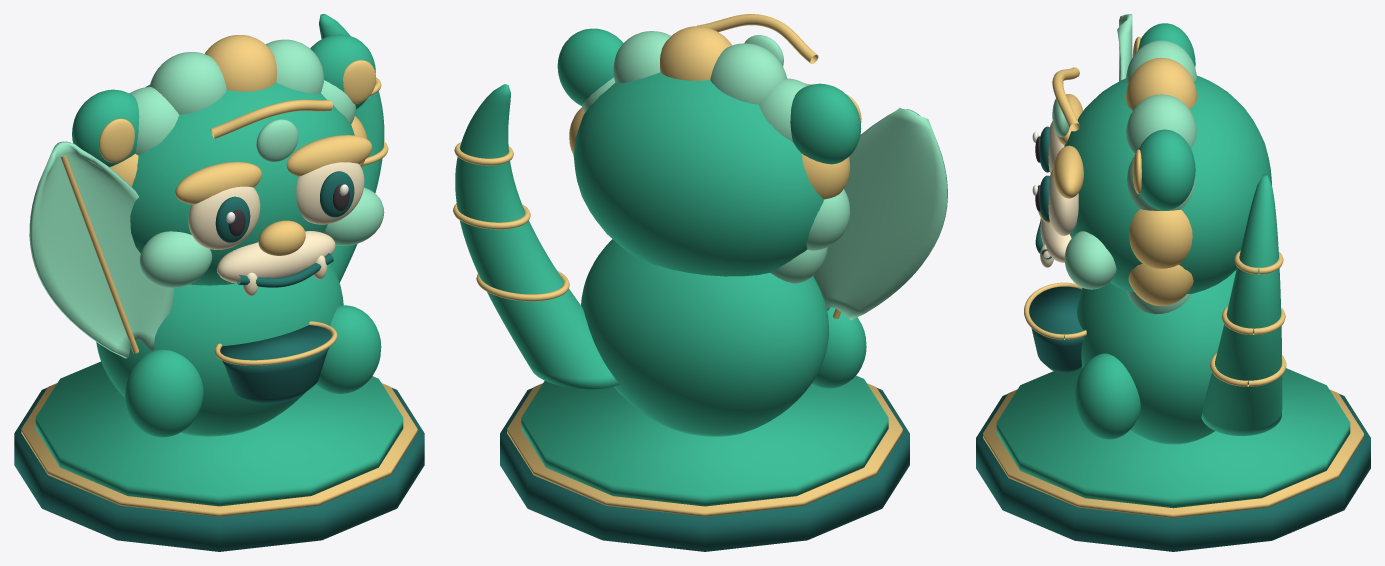
File: emerald-lion-v1.glb
The picture shows the model from 3 angles, left to right: view 1: azimuth 30°, elevation 25°; view 2: azimuth 150°, elevation 25°; view 3: azimuth 270°, elevation 25°; orthographic projection. The views are drawn at different scales.
Parts seen in each view (by area): view 1: green lacquer dais, large sculpted tea leaf fan, sculptural lion dance head, twelve-sided jade display base, continuous jade lion torso, gold inlay, ceremonial tea cup, heavy front paw, heavy front paw.001, scalloped carved mane.004, puffy lion cheek, ivory lion muzzle (+22 smaller); view 2: sculptural lion dance head, continuous jade lion torso, green lacquer dais, curling jade guardian tail, large sculpted tea leaf fan, twelve-sided jade display base, gold inlay, round ear, round ear.001, scalloped carved mane.004, scalloped carved mane.003, heavy front paw (+8 smaller); view 3: green lacquer dais, sculptural lion dance head, continuous jade lion torso, twelve-sided jade display base, curling jade guardian tail, gold inlay, heavy front paw.001, round ear.001, ceremonial tea cup, scalloped carved mane, scalloped carved mane.002, scalloped carved mane.003 (+14 smaller).
Part boxes in pixels (<box>): green lacquer dais: <box>35,361,403,506</box>; large sculpted tea leaf fan: <box>29,141,174,358</box>; sculptural lion dance head: <box>130,82,359,285</box>; twelve-sided jade display base: <box>14,388,424,551</box>; continuous jade lion torso: <box>96,263,343,436</box>; gold inlay: <box>21,383,417,516</box>; ceremonial tea cup: <box>220,325,331,404</box>; heavy front paw: <box>125,349,203,437</box>; heavy front paw.001: <box>316,305,381,393</box>; scalloped carved mane.004: <box>149,52,226,114</box>; puffy lion cheek: <box>139,231,212,287</box>; ivory lion muzzle: <box>216,231,335,283</box>; sculptural lion dance head: <box>573,72,823,276</box>; continuous jade lion torso: <box>581,239,828,436</box>; green lacquer dais: <box>521,375,888,506</box>; curling jade guardian tail: <box>455,84,619,389</box>; large sculpted tea leaf fan: <box>813,108,947,320</box>; twelve-sided jade display base: <box>500,388,909,551</box>; gold inlay: <box>507,383,902,516</box>; round ear: <box>790,83,861,164</box>; round ear.001: <box>557,28,623,105</box>; scalloped carved mane.004: <box>710,43,786,104</box>; scalloped carved mane.003: <box>660,26,732,80</box>; heavy front paw: <box>811,307,866,388</box>; green lacquer dais: <box>996,367,1350,508</box>; sculptural lion dance head: <box>1064,75,1271,293</box>; continuous jade lion torso: <box>1077,270,1236,444</box>; twelve-sided jade display base: <box>976,394,1370,551</box>; curling jade guardian tail: <box>1201,174,1282,435</box>; gold inlay: <box>983,389,1363,518</box>; heavy front paw.001: <box>1075,353,1140,439</box>; round ear.001: <box>1139,129,1195,210</box>; ceremonial tea cup: <box>1029,286,1083,373</box>; scalloped carved mane: <box>1129,209,1192,268</box>; scalloped carved mane.002: <box>1126,94,1196,152</box>; scalloped carved mane.003: <box>1126,58,1196,110</box>.
Bounding box in the file's own units: 1.38 × 1.34 × 1.16.
